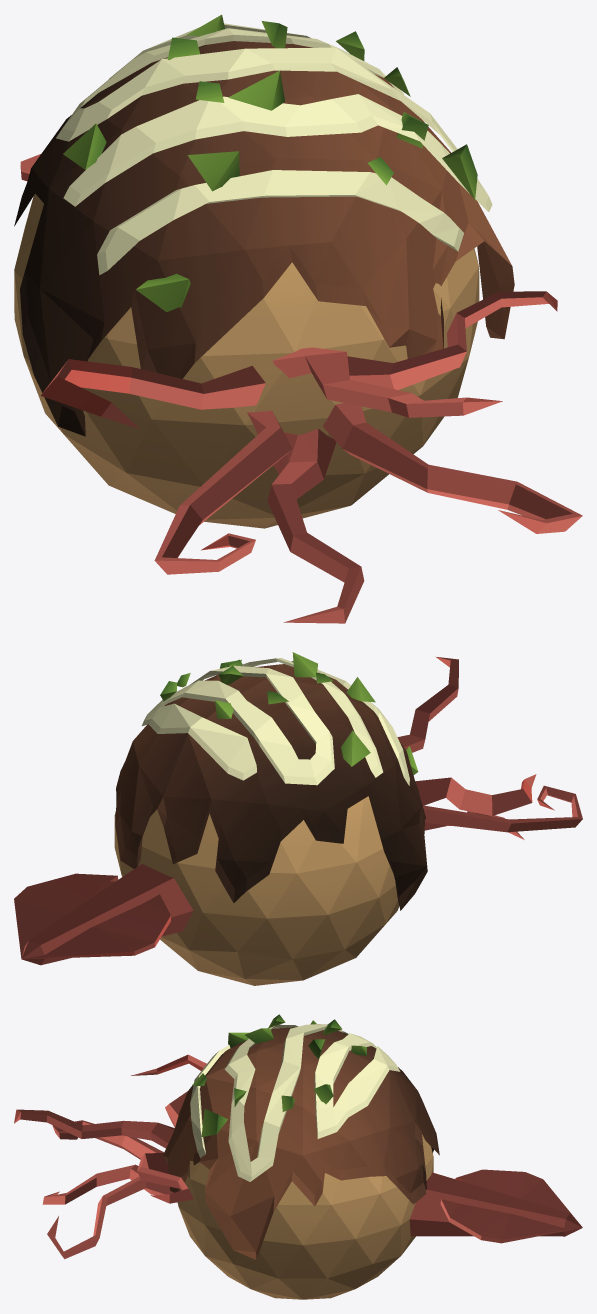
The model's file is Takoyakki.fbx.
The picture shows the model from 3 angles, top to bottom: view 1: azimuth 30°, elevation 25°; view 2: azimuth 150°, elevation 25°; view 3: azimuth 270°, elevation 25°; orthographic projection. The views are drawn at different scales.
Visible parts, largest first — view 1: GeoSphere001; view 2: GeoSphere001; view 3: GeoSphere001.
Part boxes in pixels (<box>): GeoSphere001: <box>14,14,582,623</box>; GeoSphere001: <box>14,652,582,985</box>; GeoSphere001: <box>14,1014,582,1299</box>.
Size of the model in its own units: 726 by 1236 by 628.
1 material, 1 textured.
